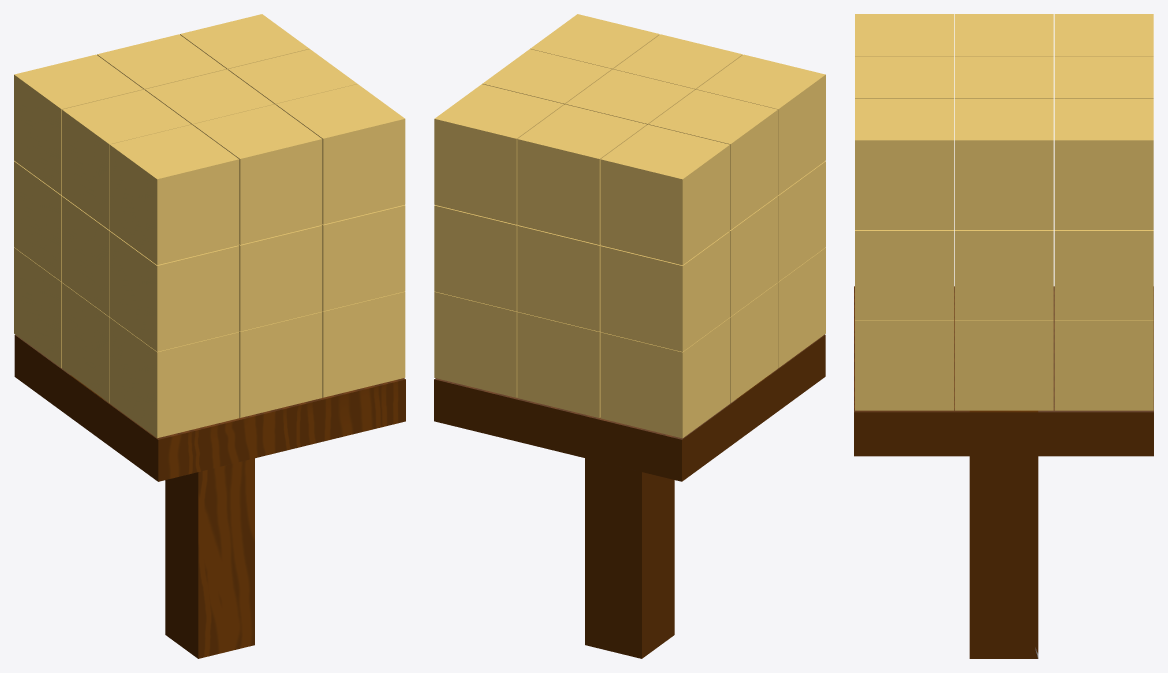
The model's file is Level1-2x.fbx.
The picture shows the model from 3 angles, left to right: view 1: azimuth 30°, elevation 25°; view 2: azimuth 150°, elevation 25°; view 3: azimuth 270°, elevation 25°; orthographic projection. The views are drawn at different scales.
Parts seen in each view (by area): view 1: Cube.001, Cube.019, Cube.010, Cube, Cube.020, Cube.021, Cube.025, Cube.022, Cube.011, Cube.012, Cube.002, Cube.003 (+8 smaller); view 2: Cube.001, Cube.025, Cube.016, Cube.007, Cube.026, Cube.027, Cube.022, Cube.019, Cube.017, Cube.018, Cube.009, Cube.008 (+8 smaller); view 3: Cube.001, Cube.024, Cube.027, Cube.021, Cube.015, Cube.018, Cube.006, Cube.009, Cube.003, Cube.012, Cube.023, Cube.026 (+4 smaller).
Boxes of the visible parts, x1,y1,x2,y2 form: Cube.001: (14,334,405,658); Cube.019: (109,124,239,265); Cube.010: (109,231,239,351); Cube: (109,317,239,438); Cube.020: (192,104,322,244); Cube.021: (275,84,405,224); Cube.025: (14,54,143,194); Cube.022: (62,89,191,229); Cube.011: (239,225,322,331); Cube.012: (322,205,405,311); Cube.002: (239,312,322,417); Cube.003: (322,291,405,397); Cube.001: (434,334,825,658); Cube.025: (600,124,729,265); Cube.016: (600,231,729,351); Cube.007: (600,317,729,438); Cube.026: (517,104,646,244); Cube.027: (434,84,563,224); Cube.022: (648,89,777,229); Cube.019: (696,54,825,195); Cube.017: (517,225,600,331); Cube.018: (434,205,517,311); Cube.009: (434,291,517,397); Cube.008: (517,312,600,417); Cube.001: (854,286,1153,658); Cube.024: (954,98,1053,229); Cube.027: (1054,98,1153,229); Cube.021: (855,98,953,229); Cube.015: (954,230,1053,320); Cube.018: (1054,230,1153,320); Cube.006: (954,320,1053,410); Cube.009: (1054,320,1153,410); Cube.003: (855,320,953,410); Cube.012: (855,230,953,320); Cube.023: (954,56,1053,98); Cube.026: (1054,56,1153,98).
Bounding box in the file's own units: 950 × 1986 × 951.
